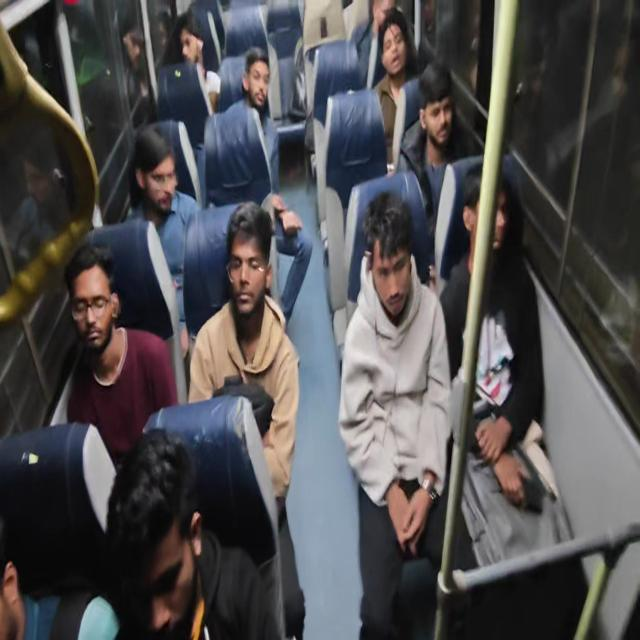person: (338, 190, 455, 638), (187, 200, 305, 637), (440, 168, 569, 567), (104, 428, 286, 638), (60, 242, 178, 466), (224, 46, 313, 323), (123, 126, 201, 343), (396, 60, 466, 230), (6, 126, 72, 268), (225, 46, 281, 193), (371, 7, 421, 170), (175, 12, 221, 115), (350, 0, 395, 87), (121, 25, 157, 127)
